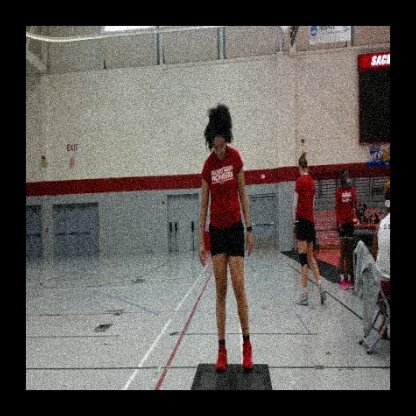lateral_flexion_normal: (196, 100, 256, 376)
stance_width_narrow: (197, 145, 255, 375)
